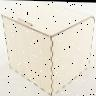cube: (1, 1, 95, 96)
